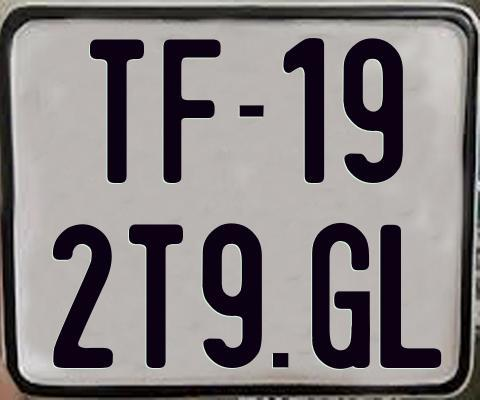1: (282, 36, 326, 187)
2: (50, 221, 114, 366)
9: (201, 221, 266, 367), (340, 35, 401, 186)
F: (160, 39, 224, 185)
G: (311, 220, 373, 372)
L: (380, 225, 447, 368)
T: (88, 36, 145, 185), (129, 222, 187, 366)
